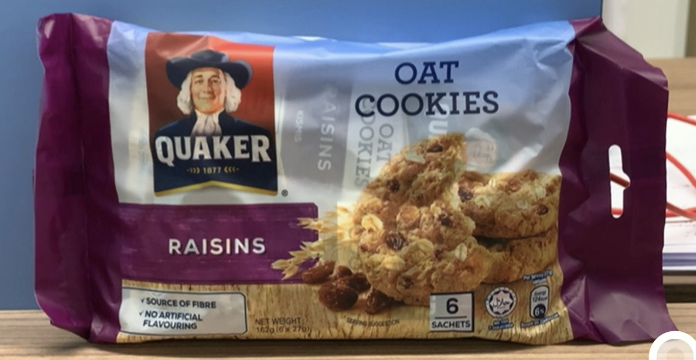cookies_150g: (114, 56, 562, 333)
